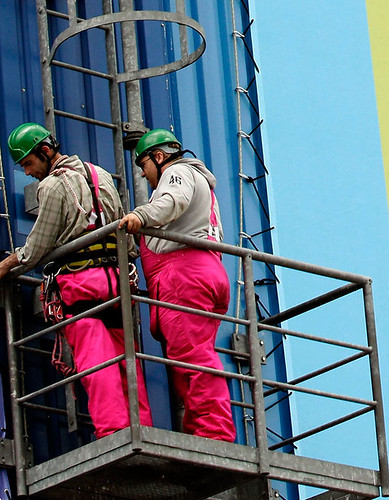person hardhat: (118, 124, 257, 453), (7, 123, 145, 447)
